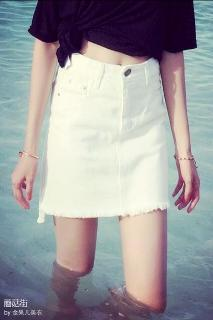short sleeve top: (27, 0, 197, 68)
skirt: (37, 46, 172, 223)
